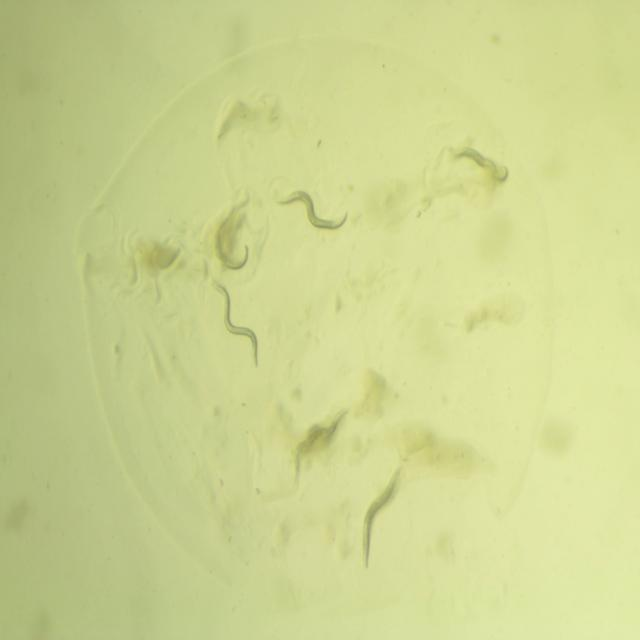worm: (352, 453, 411, 579), (266, 177, 356, 256), (206, 274, 268, 381), (288, 402, 351, 486), (207, 189, 257, 292), (446, 130, 514, 204)
